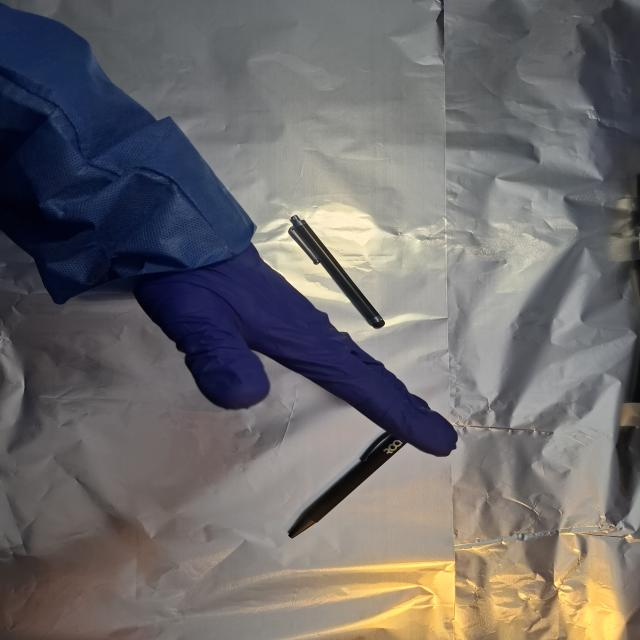glove_on: (127, 241, 461, 460)
